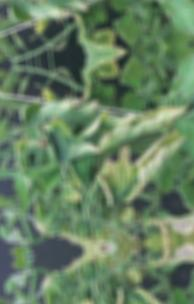Tomato leaf yellow virus: (98, 128, 192, 205), (74, 50, 140, 80), (162, 50, 194, 97), (172, 106, 194, 148)
